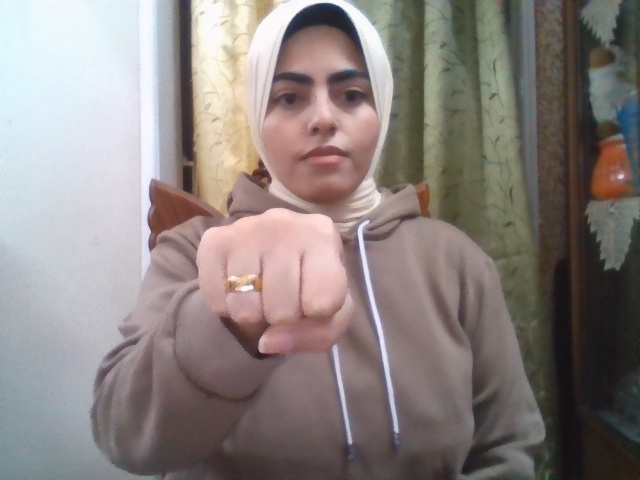yes: (196, 208, 352, 355)
